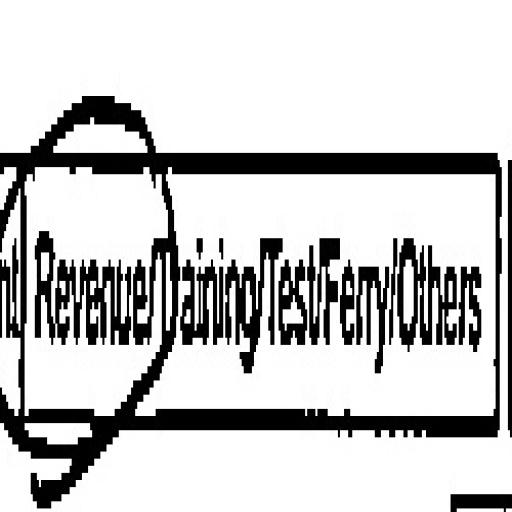check: (11, 59, 154, 512)
